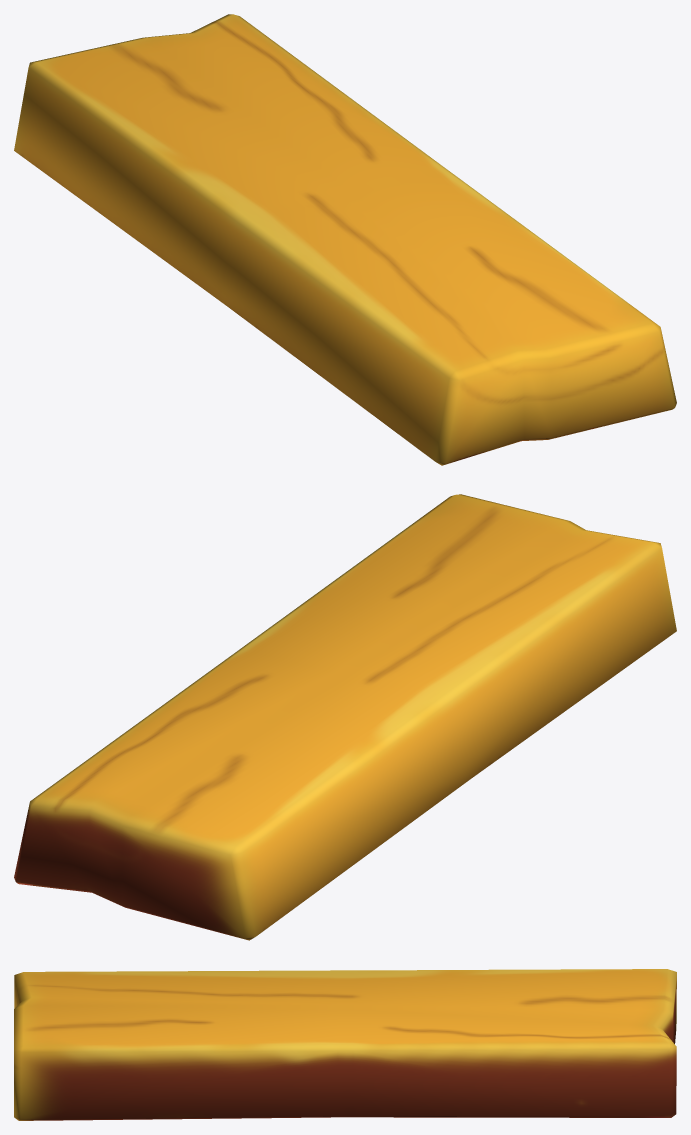
The model's file is Lumber.fbx.
3 views of the same model, one above another, from view 1: azimuth 30°, elevation 25°; view 2: azimuth 150°, elevation 25°; view 3: azimuth 270°, elevation 25° (orthographic). The views are drawn at different scales.
Visible parts, largest first — view 1: GOLD; view 2: GOLD; view 3: GOLD.
Part boxes in pixels (<box>): GOLD: <box>14,14,676,465</box>; GOLD: <box>14,494,676,940</box>; GOLD: <box>14,969,676,1120</box>.
Size of the model in its own units: 5.99 by 2.17 by 18.38.
1 material, 1 textured.
